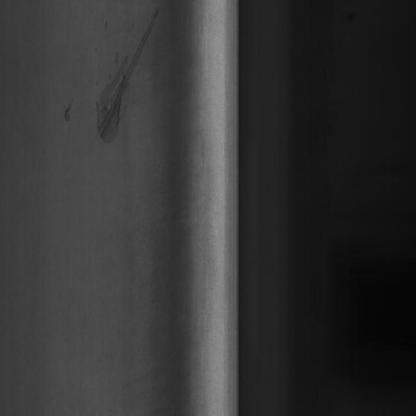water_spot: (60, 0, 166, 151)
